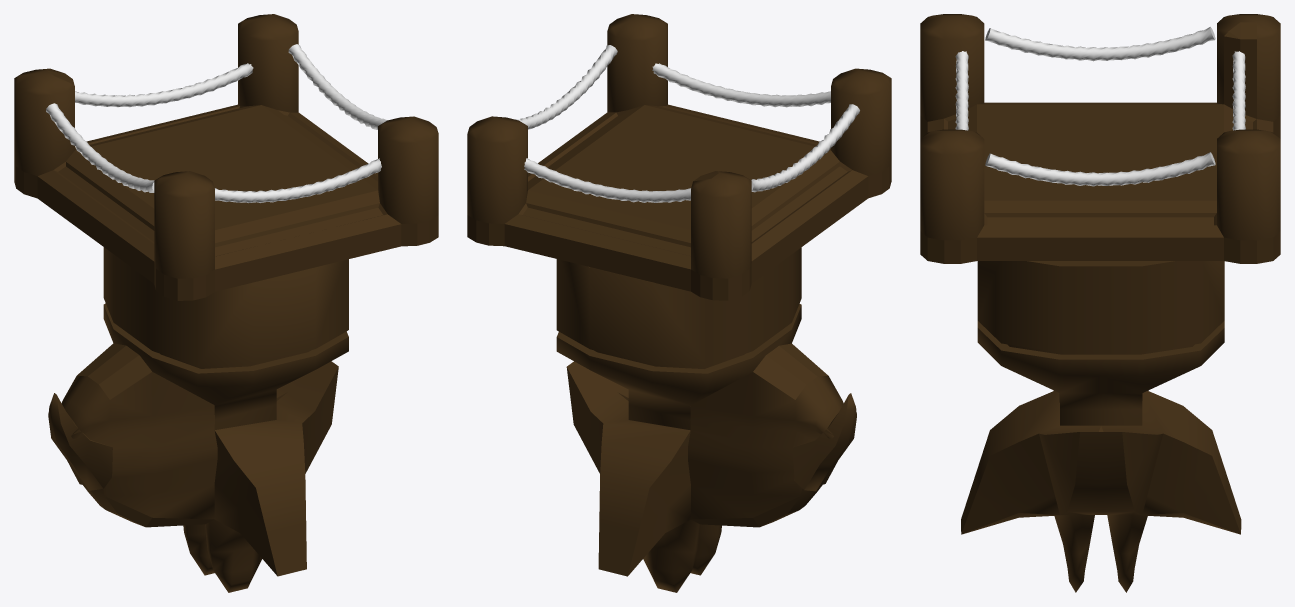
The model's file is SM_BirdTurret.FBX.
3 views of the same model, side by side, from view 1: azimuth 30°, elevation 25°; view 2: azimuth 150°, elevation 25°; view 3: azimuth 270°, elevation 25° (orthographic). The views are drawn at different scales.
Parts seen in each view (by area): view 1: BirdTop, BirdStand, BirdBeak, Cylinder004, Cylinder002, Cylinder001, Cylinder003; view 2: BirdTop, BirdStand, BirdBeak, Cylinder002, Cylinder004, Cylinder001, Cylinder003; view 3: BirdStand, BirdTop, Cylinder001, Cylinder003, Cylinder002, Cylinder004.
Boxes of the visible parts, box(x1,y1,x2,y2) form: BirdTop: box(61, 247, 348, 592); BirdStand: box(14, 14, 438, 300); BirdBeak: box(48, 393, 112, 490); Cylinder004: box(75, 63, 253, 107); Cylinder002: box(215, 158, 381, 202); Cylinder001: box(46, 103, 154, 192); Cylinder003: box(288, 44, 388, 129); BirdTop: box(556, 247, 843, 592); BirdStand: box(467, 14, 891, 300); BirdBeak: box(792, 393, 856, 491); Cylinder002: box(652, 63, 830, 107); Cylinder004: box(524, 158, 690, 202); Cylinder001: box(751, 104, 859, 192); Cylinder003: box(515, 45, 617, 129); BirdStand: box(920, 14, 1280, 263); BirdTop: box(961, 261, 1241, 592); Cylinder001: box(985, 27, 1215, 61); Cylinder003: box(985, 152, 1215, 186); Cylinder002: box(955, 51, 968, 130); Cylinder004: box(1232, 51, 1245, 130).
Bounding box in the file's own units: 62.38 × 92.46 × 58.95.
